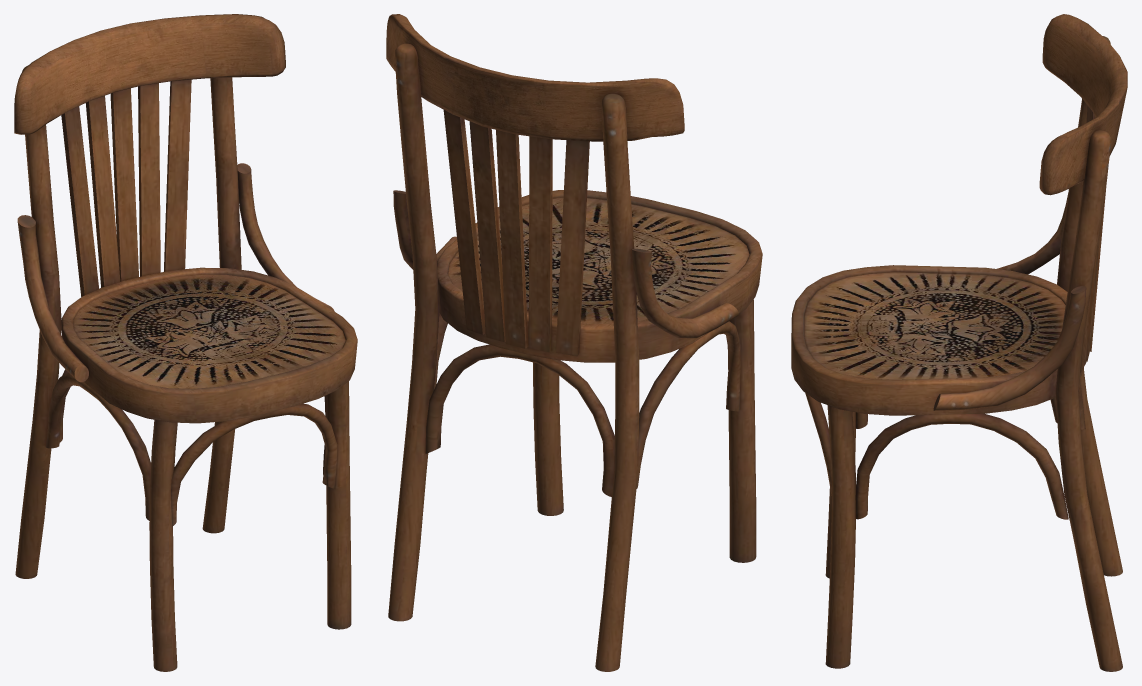
Rendered from vienna-bentwood-chair.glb.
3 renders of one model, left to right at view 1: azimuth 30°, elevation 25°; view 2: azimuth 150°, elevation 25°; view 3: azimuth 270°, elevation 25°, orthographic. The views are drawn at different scales.
Parts seen in each view (by area): view 1: chair_chair_0; view 2: chair_chair_0; view 3: chair_chair_0.
Boxes of the visible parts, x1,y1,x2,y2 form: chair_chair_0: [14, 14, 357, 671]; chair_chair_0: [386, 14, 762, 671]; chair_chair_0: [791, 14, 1127, 671].
Bounding box in the file's own units: 0.6212 × 1.14 × 0.6404.
Materials: 1 (1 with a texture image).
